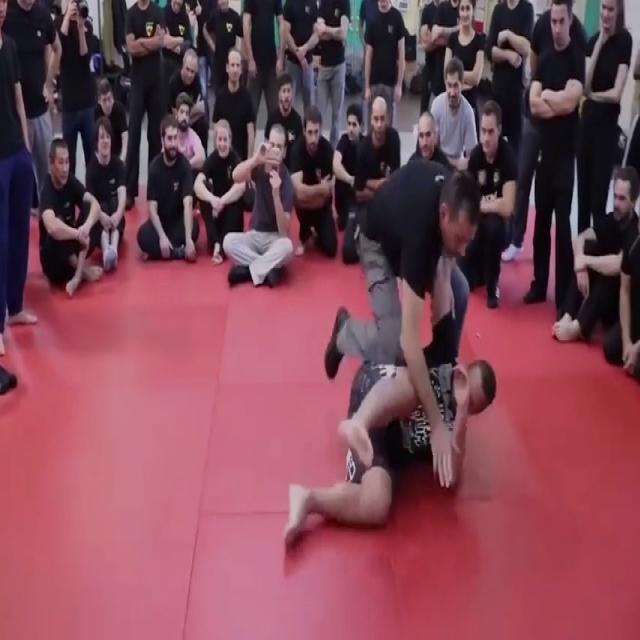fight: (284, 155, 498, 543)
non-fight: (28, 123, 134, 300), (451, 94, 528, 314), (561, 157, 639, 368), (131, 100, 205, 265), (277, 102, 347, 262)
